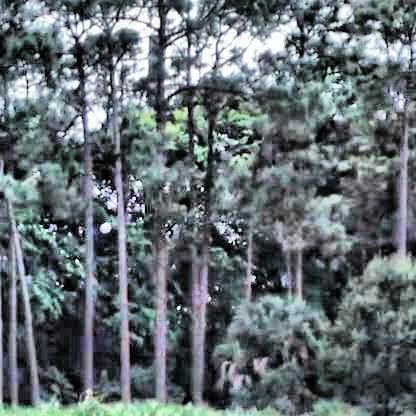golfball: (99, 220, 109, 230)
